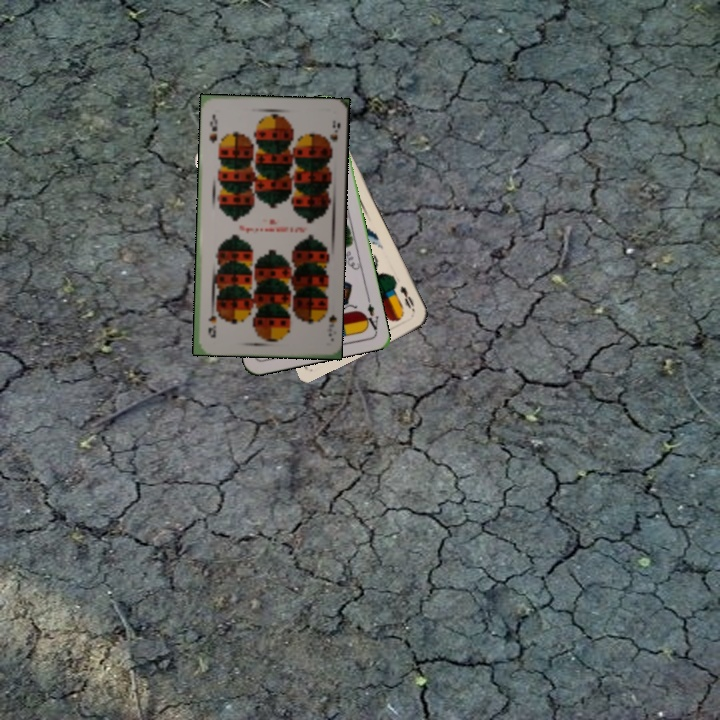EA: (360, 293, 381, 333)
EO: (396, 282, 418, 315)
S9: (205, 110, 220, 146), (324, 310, 338, 339)
